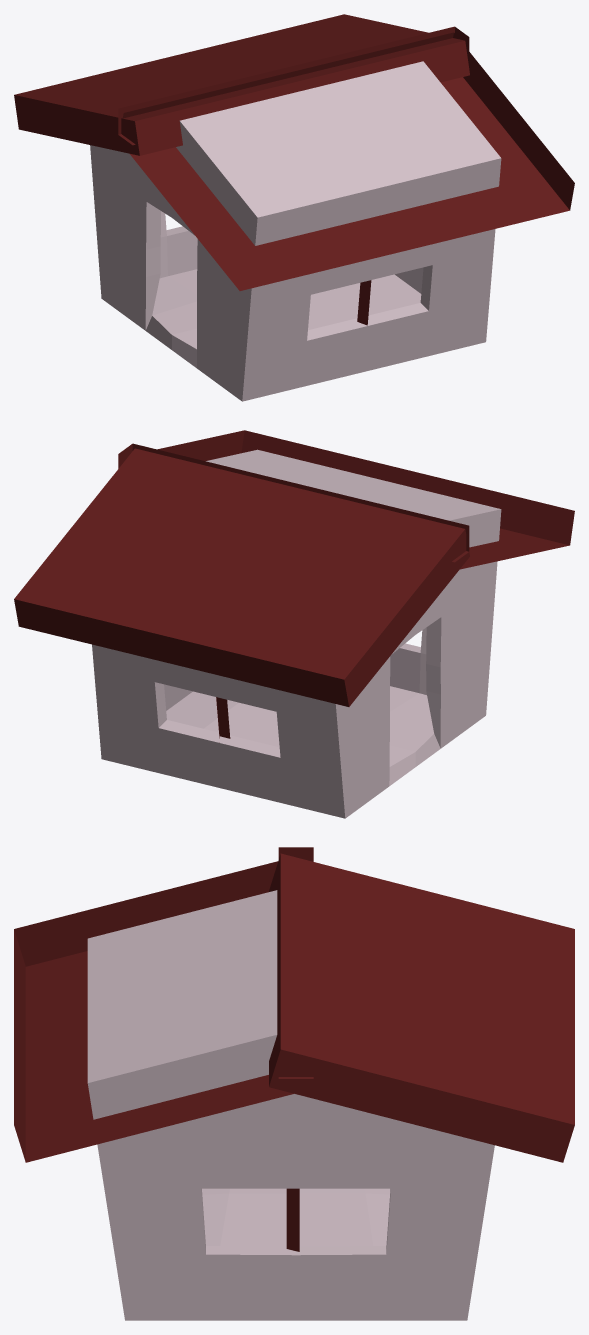
Rendered from house.glb.
The picture shows the model from 3 angles, top to bottom: view 1: azimuth 30°, elevation 25°; view 2: azimuth 150°, elevation 25°; view 3: azimuth 270°, elevation 25°; orthographic projection. The views are drawn at different scales.
Parts seen in each view (by area): view 1: Cylinder; view 2: Cylinder; view 3: Cylinder.
Boxes of the visible parts, bbox=[...] form: Cylinder: bbox=[14, 14, 574, 401]; Cylinder: bbox=[14, 430, 574, 818]; Cylinder: bbox=[14, 847, 574, 1320].
Bounding box in the file's own units: 7.59 × 5.34 × 9.01.
